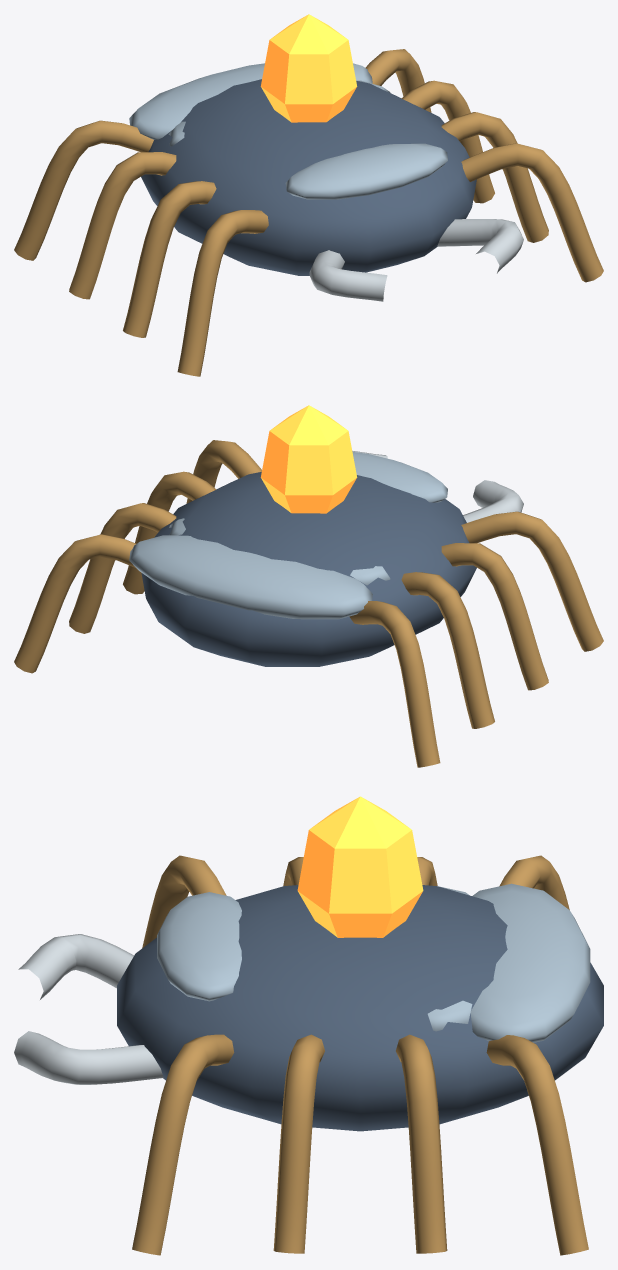
The model's file is moonsteel-convergence-gilded-river-crab-6b42e2b5__18178.glb.
The picture shows the model from 3 angles, top to bottom: view 1: azimuth 30°, elevation 25°; view 2: azimuth 150°, elevation 25°; view 3: azimuth 270°, elevation 25°; orthographic projection. The views are drawn at different scales.
Parts seen in each view (by area): view 1: gilded-river-crab; view 2: gilded-river-crab; view 3: gilded-river-crab.
Boxes of the visible parts, left/top/right/bottom form: gilded-river-crab: left=14, top=14, right=603, bottom=376; gilded-river-crab: left=14, top=405, right=603, bottom=767; gilded-river-crab: left=14, top=796, right=603, bottom=1255.
Size of the model in its own units: 3.04 by 1.75 by 2.81.
